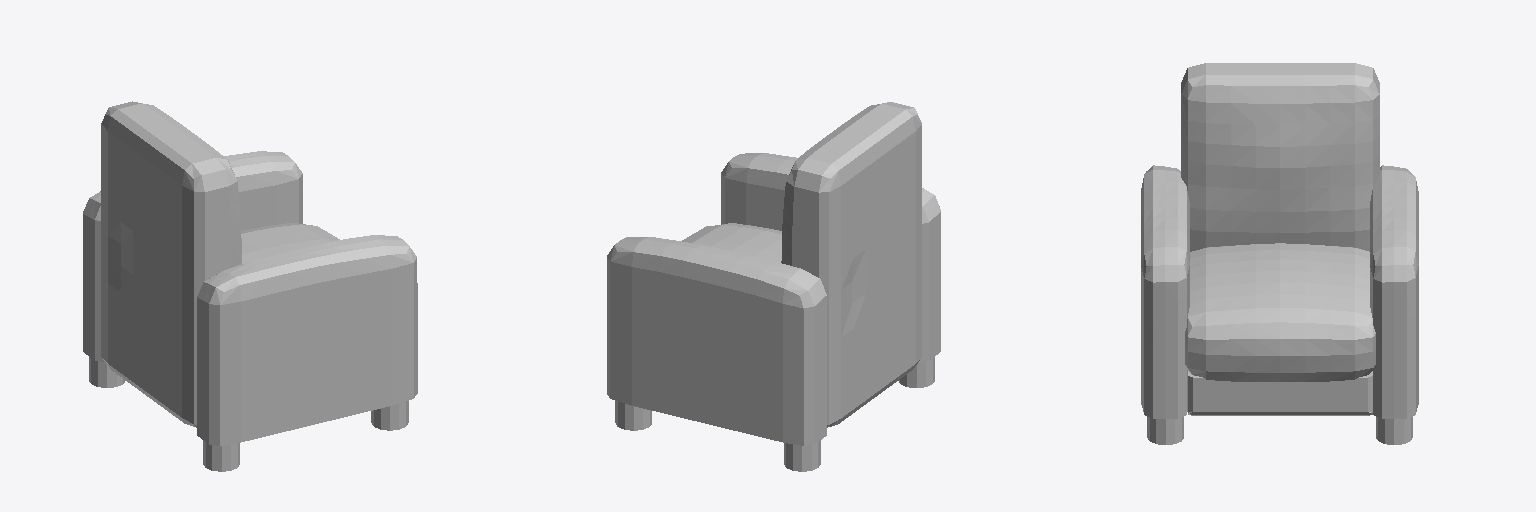
File: ComfyChair.obj
The picture shows the model from 3 angles: view 1: azimuth 30°, elevation 25°; view 2: azimuth 150°, elevation 25°; view 3: azimuth 270°, elevation 25°; orthographic projection.
Visible parts, largest first — view 1: ComfyChair; view 2: ComfyChair; view 3: ComfyChair.
Boxes of the visible parts, box(x1,y1,x2,y2) form: ComfyChair: box(83, 101, 417, 471); ComfyChair: box(607, 102, 940, 471); ComfyChair: box(1141, 63, 1418, 444).
Size of the model in its own units: 3.72 by 4.62 by 4.04.